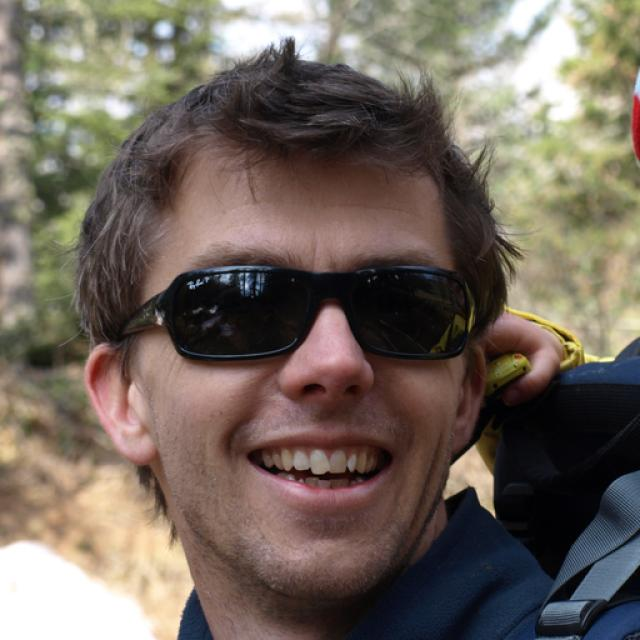Wrinkle: (326, 201, 410, 219)
